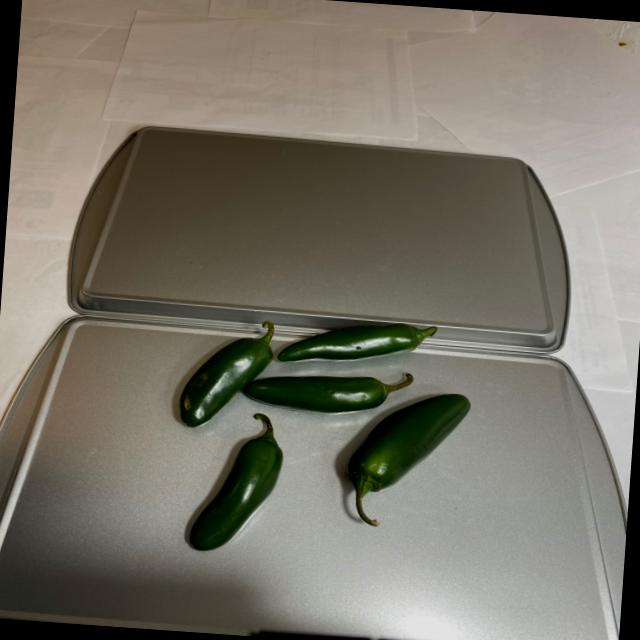chilli: (155, 296, 482, 574)
